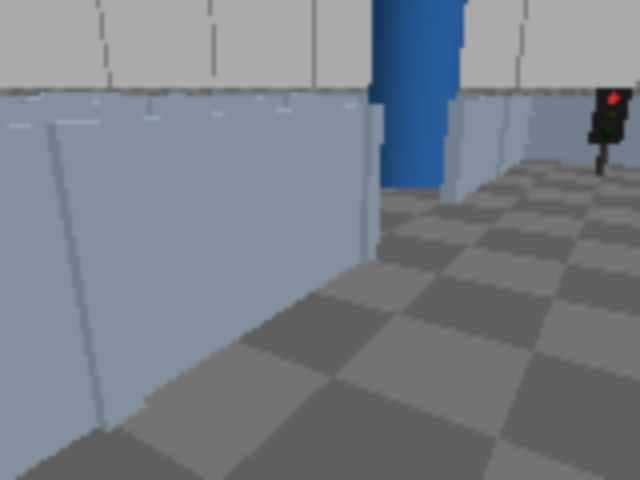traffic_light: (583, 84, 633, 178)
